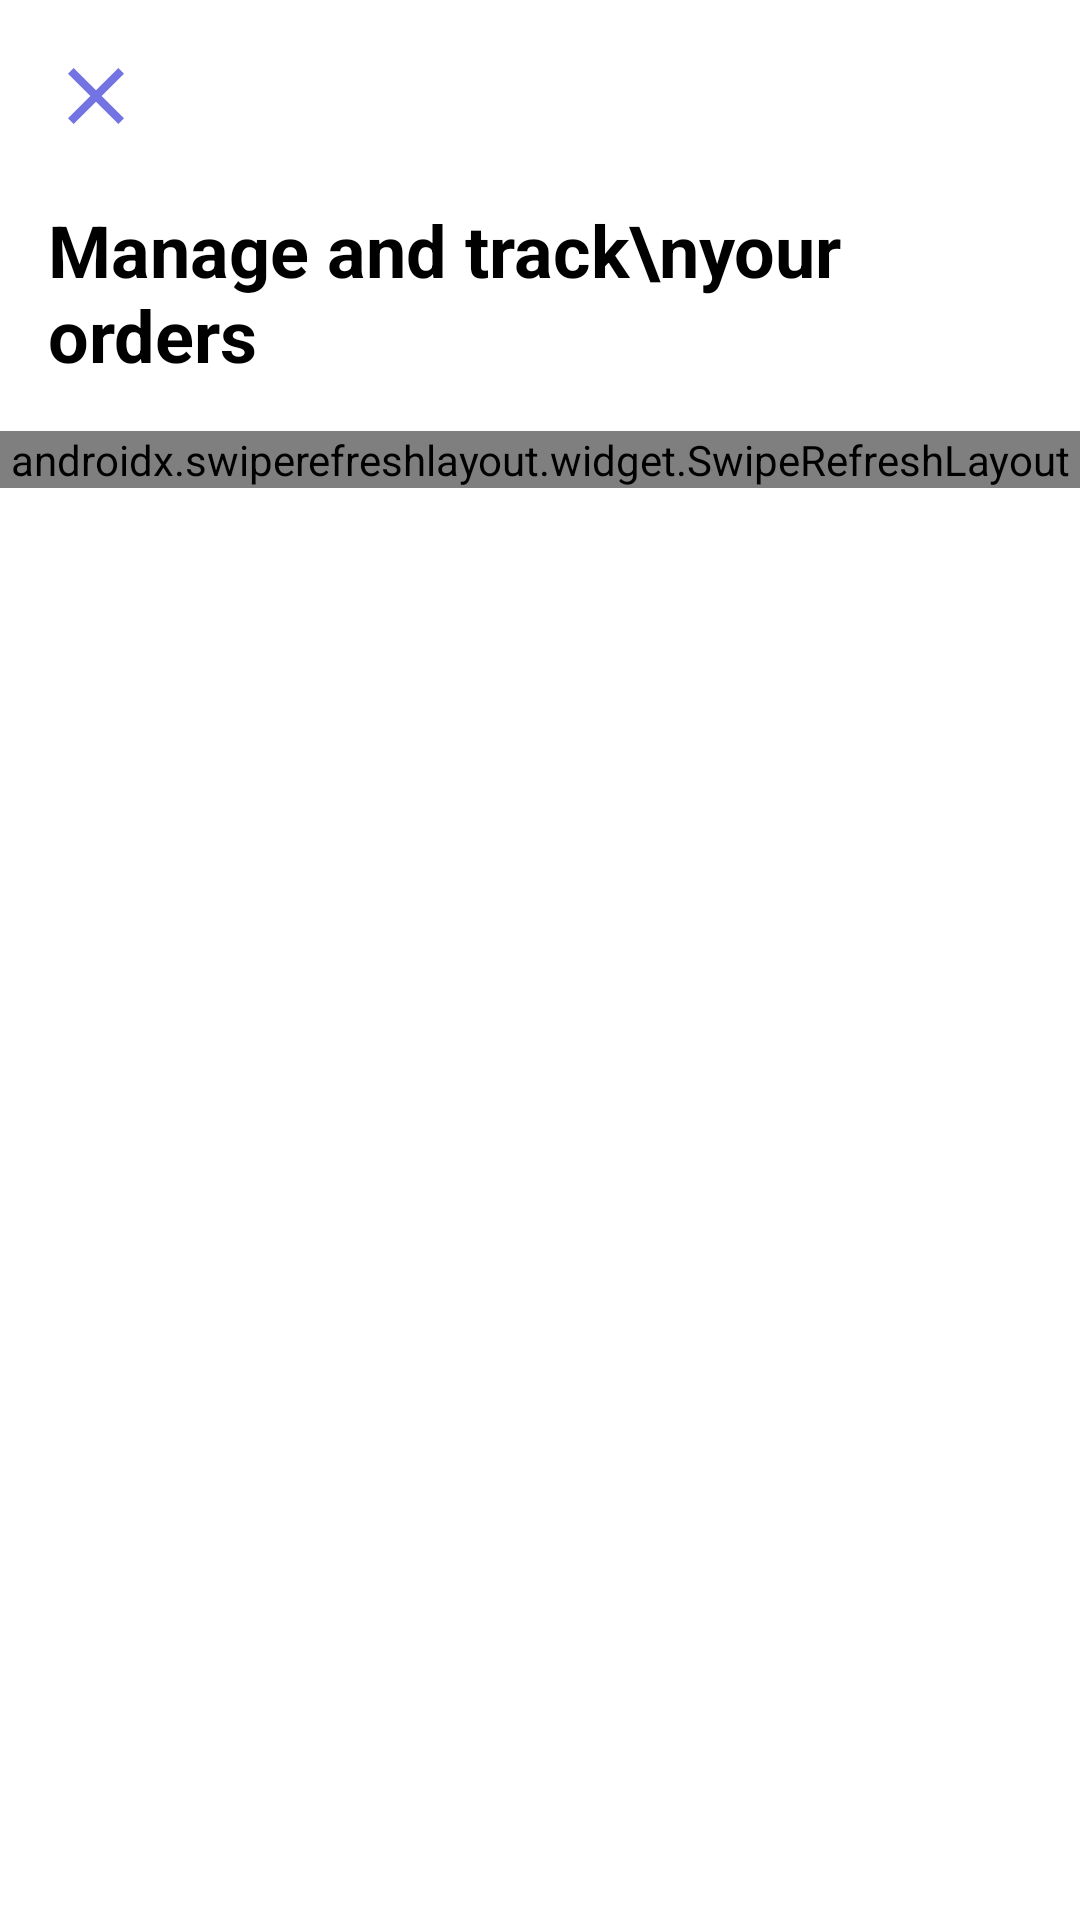

Icon bounding boxes for this 1080x1920 phone screenshot, format (x1, y1, x2, y2):
close: (68, 68, 124, 124)
